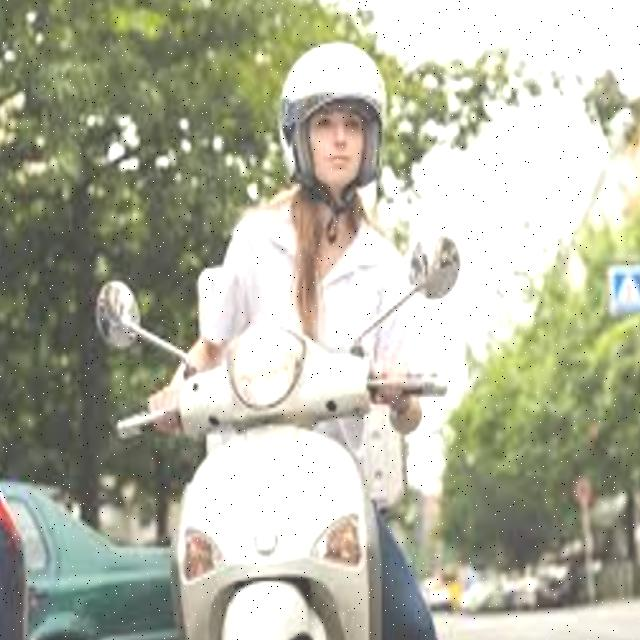not_triplets: (61, 4, 490, 640)
with-helmet: (272, 34, 400, 219)
